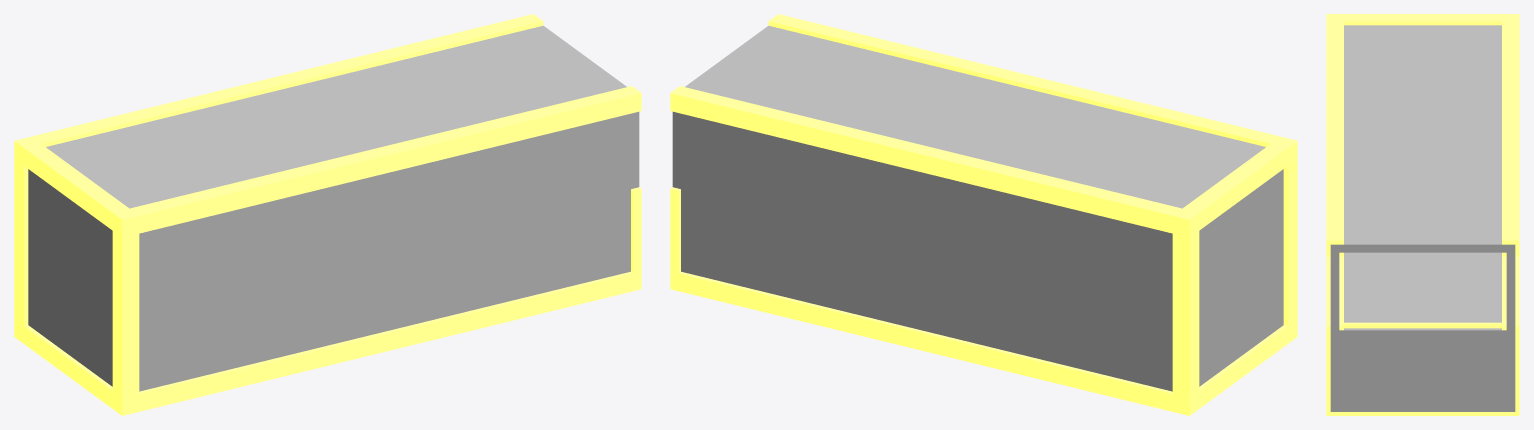
3 renders of one model, left to right at view 1: azimuth 30°, elevation 25°; view 2: azimuth 150°, elevation 25°; view 3: azimuth 270°, elevation 25°, orthographic. The views are drawn at different scales.
Visible parts, largest first — view 1: wall, light; view 2: wall, light; view 3: wall, light.
Part boxes in pixels (left/top/right/bottom): wall: left=28, top=25, right=639, bottom=391; light: left=14, top=14, right=641, bottom=415; wall: left=672, top=25, right=1283, bottom=391; light: left=670, top=14, right=1297, bottom=415; wall: left=1330, top=25, right=1515, bottom=411; light: left=1326, top=14, right=1519, bottom=415.
Size of the model in its own units: 61 by 22 by 22.
